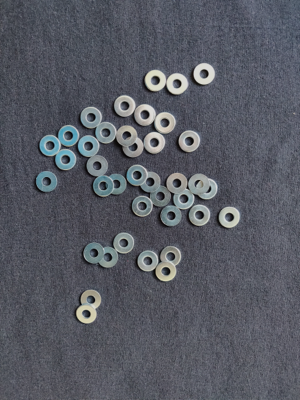circle: (154, 110, 178, 135), (143, 69, 167, 94), (166, 72, 190, 97), (192, 63, 217, 87), (153, 261, 179, 284), (136, 250, 160, 274), (218, 206, 241, 230), (189, 204, 212, 228), (91, 175, 115, 198), (86, 154, 109, 178), (39, 134, 62, 158), (114, 95, 137, 119), (81, 105, 103, 130), (97, 247, 120, 270), (139, 171, 162, 194), (179, 131, 202, 154), (83, 242, 105, 266), (36, 171, 58, 195), (149, 185, 173, 207), (78, 135, 100, 159), (96, 120, 117, 145), (113, 233, 135, 256), (159, 246, 182, 268), (160, 205, 182, 228), (173, 189, 196, 211), (122, 136, 145, 158), (143, 132, 166, 154), (80, 290, 102, 312), (127, 165, 149, 187), (116, 125, 138, 147), (131, 196, 154, 217), (188, 174, 211, 195), (58, 125, 79, 148), (55, 149, 76, 172), (135, 104, 156, 127), (197, 179, 219, 200), (106, 173, 127, 195), (76, 304, 98, 324), (167, 174, 188, 194)
